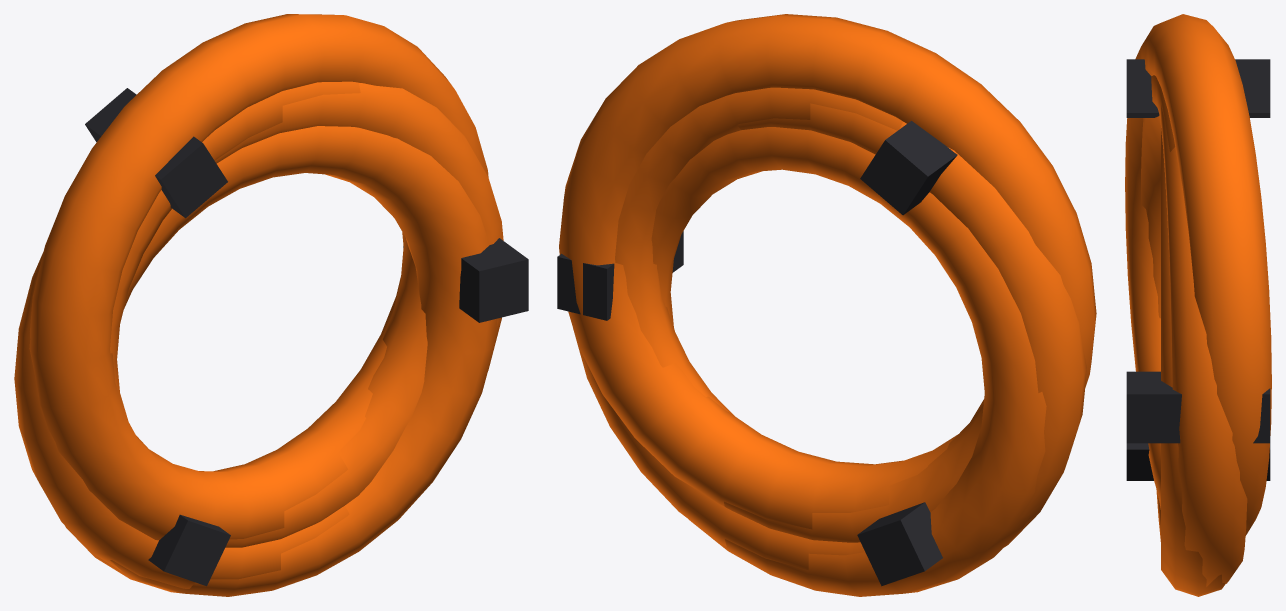
File: cable-coil.glb
The picture shows the model from 3 angles, left to right: view 1: azimuth 30°, elevation 25°; view 2: azimuth 150°, elevation 25°; view 3: azimuth 270°, elevation 25°; orthographic projection. The views are drawn at different scales.
Parts seen in each view (by area): view 1: cable_coil; view 2: cable_coil; view 3: cable_coil.
Part boxes in pixels (left/top/right/bottom): cable_coil: left=14, top=14, right=528, bottom=596; cable_coil: left=557, top=14, right=1096, bottom=596; cable_coil: left=1125, top=14, right=1271, bottom=596.
Size of the model in its own units: 0.2996 by 0.328 by 0.0817.
